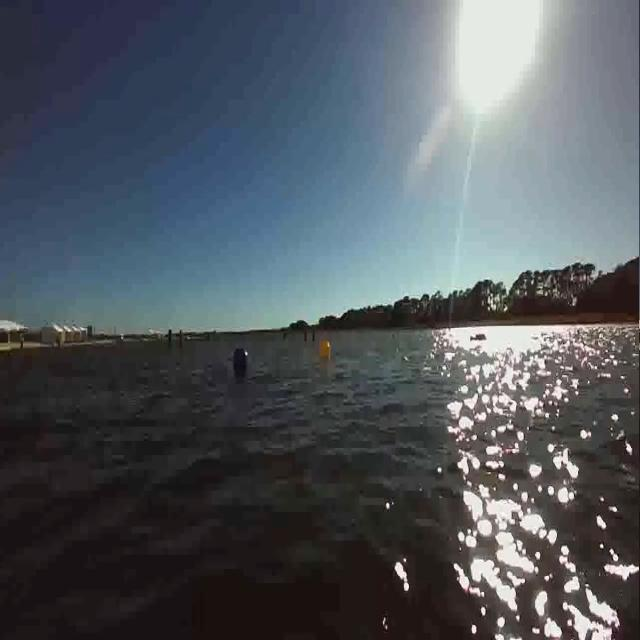blue-buoy: (234, 347, 249, 370)
yellow-buoy: (319, 340, 331, 358)
